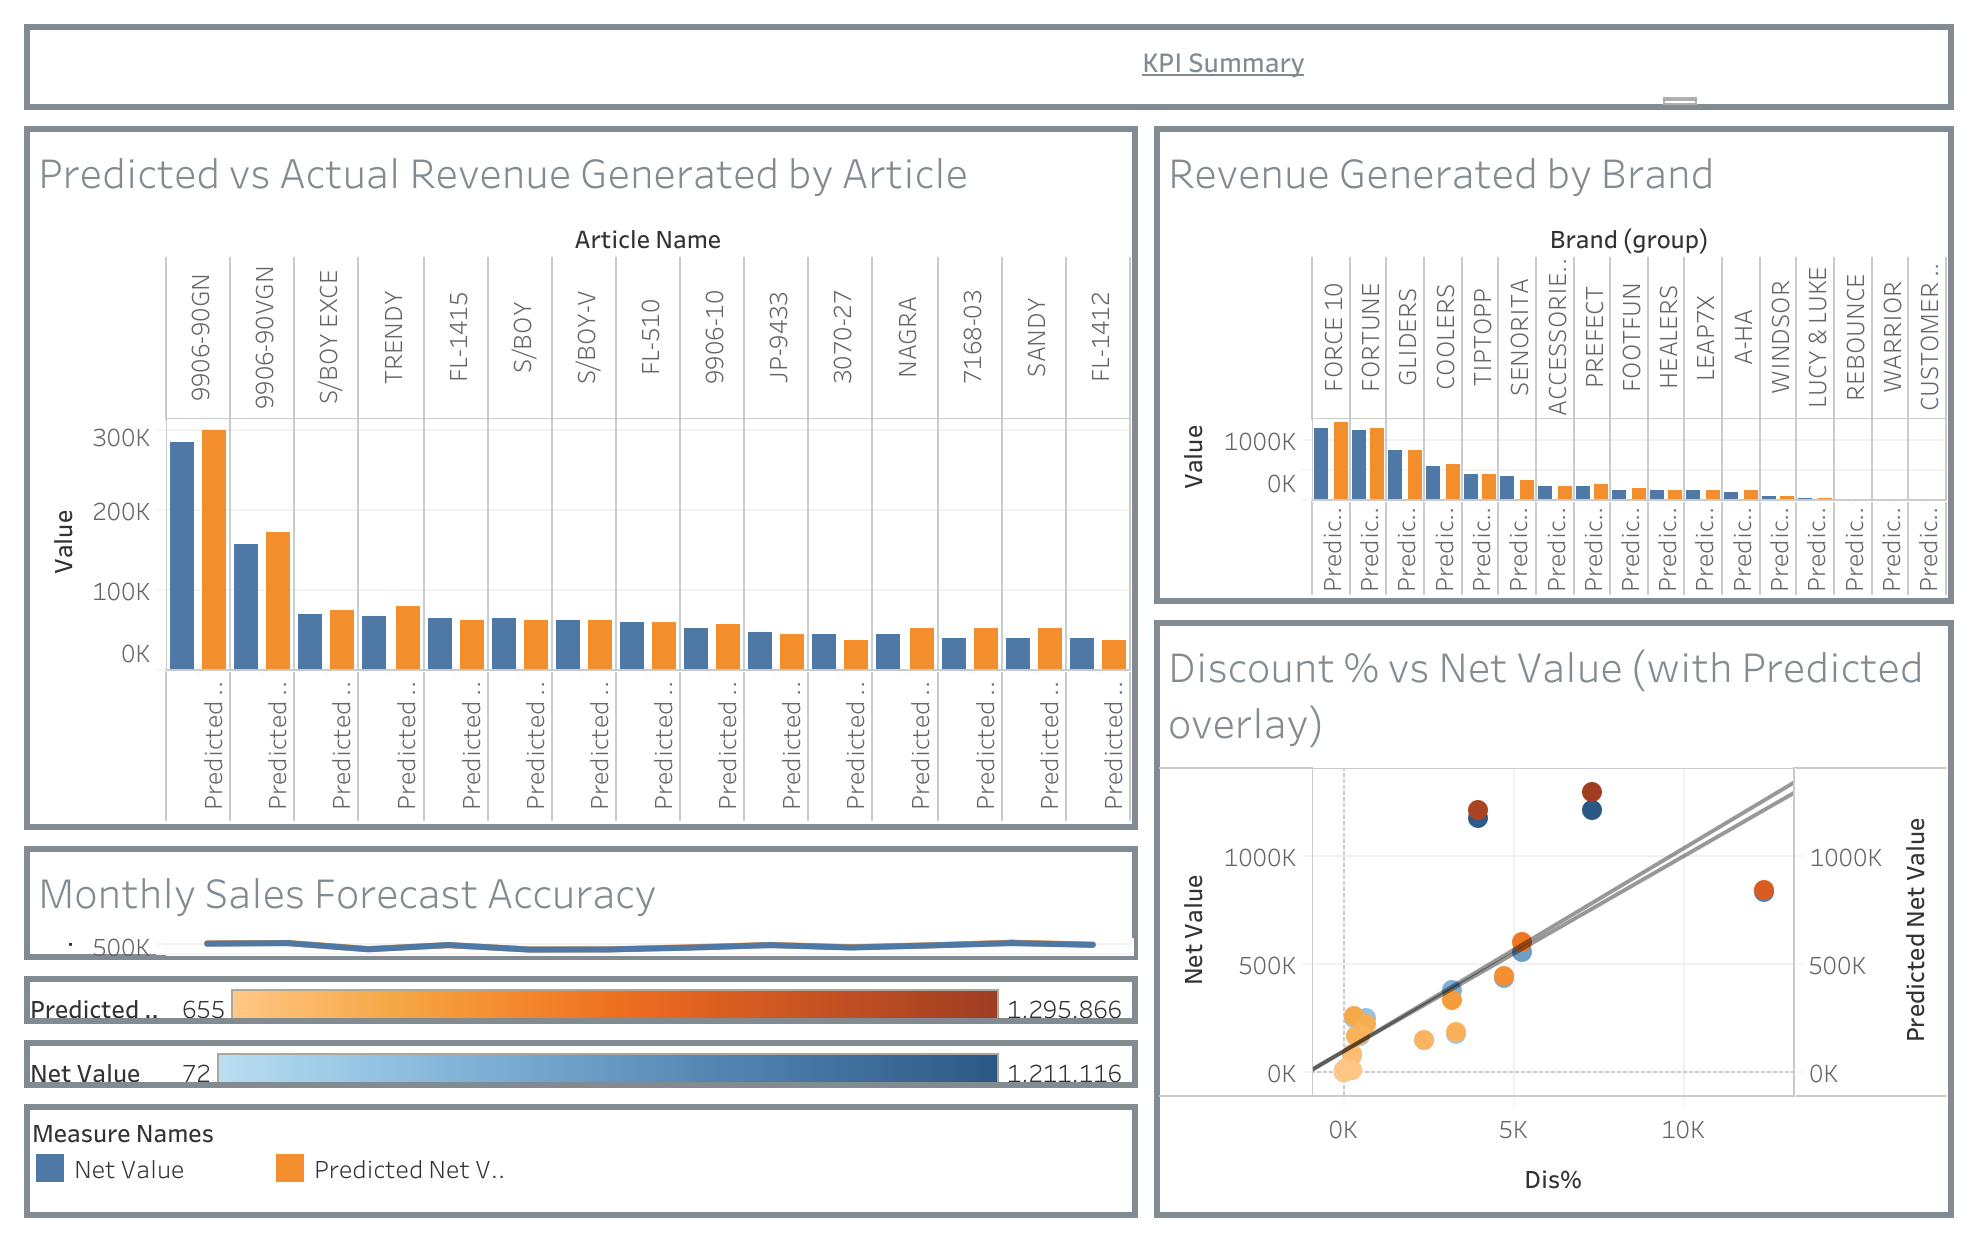

The page's visual inventory and layout, read from the dashboard file:
{"tool":"tableau","page":{"name":"Dashboard 1","canvas":[1000,1000],"units":"permille","ordinal":0},"visuals":[{"type":"worksheet","title":"KPI Summary","mark":"Automatic","box":[6.7,8.9,986.7,83.3]},{"type":"worksheet","title":"Predicted vs Actual Revenue Generated by Article","mark":"Automatic","cols":["ARTICLE_NAME"],"box":[6.7,92.2,572.5,400]},{"type":"worksheet","title":"Revenue Generated by Brand","mark":"Automatic","box":[579.1,92.2,414.2,400]},{"type":"worksheet","title":"Monthly Sales Forecast Accuracy","mark":"Automatic","cols":["Calculation_2426032891037380608"],"box":[6.7,492.2,572.5,347.8]},{"type":"worksheet","title":"Discount % vs Net Value (with Predicted overlay)","mark":"Circle","rows":["NET_VALUE","PREDICTED_NET_VALUE"],"cols":["DIS%"],"box":[579.1,492.2,414.2,498.9]},{"type":"legend","title":"Discount % vs Net Value (with Predicted overlay)","param":"[federated.0jkf8lh1mbebpn13xlrfb1qsjbvz].[sum:PREDICTED_NET_VALUE:qk]","box":[6.7,840,572.5,35.6]},{"type":"legend","title":"Discount % vs Net Value (with Predicted overlay)","param":"[federated.0jkf8lh1mbebpn13xlrfb1qsjbvz].[sum:NET_VALUE:qk]","box":[6.7,875.6,572.5,35.6]},{"type":"legend","title":"Predicted vs Actual Revenue Generated by Article","param":"[federated.0jkf8lh1mbebpn13xlrfb1qsjbvz].[:Measure Names]","box":[6.7,911.1,572.5,80]}]}

Visuals, with their boxes on the dashboard's canvas, which has no fixed pixel size, in thousandths of its width and height (x1, y1, x2, y2). These are canvas units, not pixel positions in the 1976x1240 screenshot, which may show the page scaled, cropped or inside an application window:
"KPI Summary" worksheet: <box>7,9,993,92</box>
"Predicted vs Actual Revenue Generated by Article" worksheet: <box>7,92,579,492</box>
"Revenue Generated by Brand" worksheet: <box>579,92,993,492</box>
"Monthly Sales Forecast Accuracy" worksheet: <box>7,492,579,840</box>
"Discount % vs Net Value (with Predicted overlay)" worksheet (Circle marks): <box>579,492,993,991</box>
"Discount % vs Net Value (with Predicted overlay)" legend: <box>7,840,579,876</box>
"Discount % vs Net Value (with Predicted overlay)" legend: <box>7,876,579,911</box>
"Predicted vs Actual Revenue Generated by Article" legend: <box>7,911,579,991</box>
